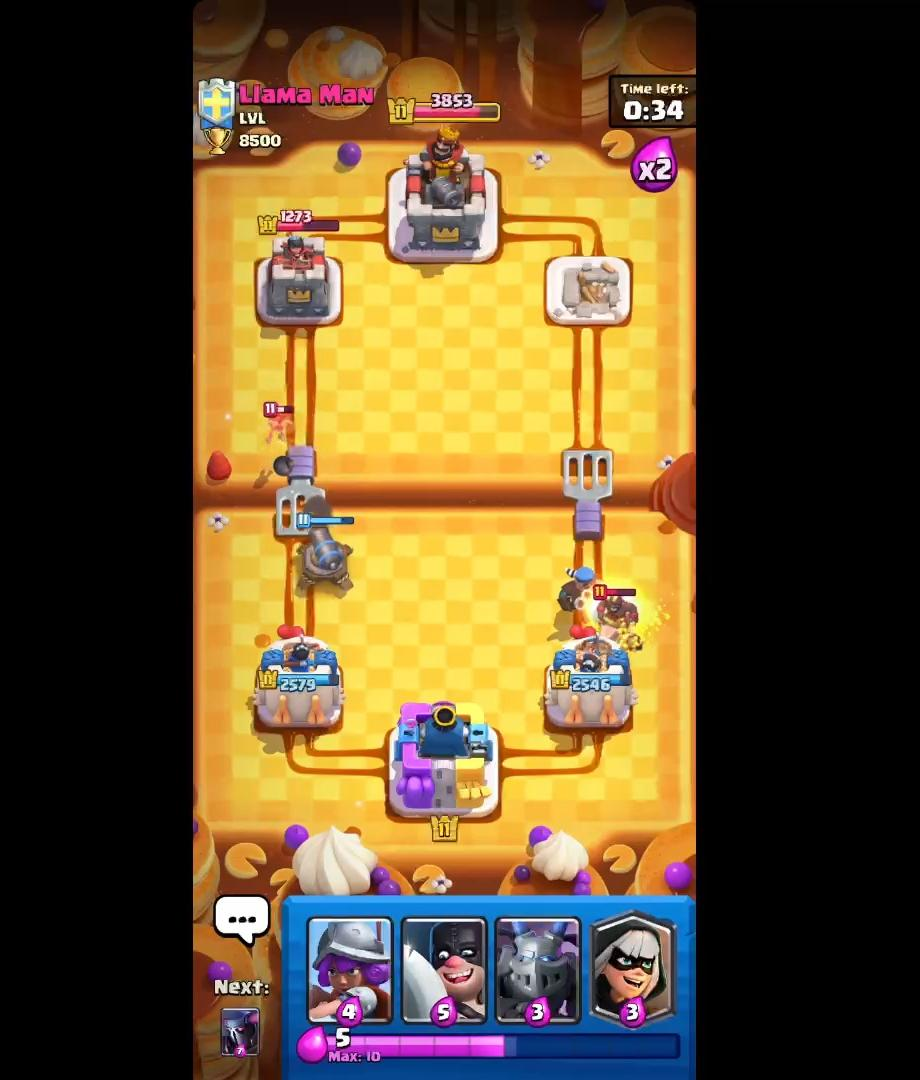Hog Rider: (593, 587, 642, 649)
